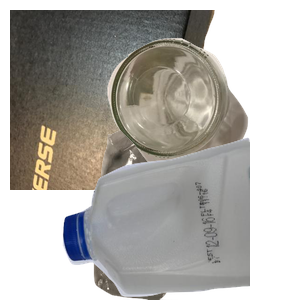cardboard: (10, 10, 217, 190)
glass: (105, 36, 300, 201)
plastic: (60, 135, 300, 300)
trash: (70, 120, 256, 300)
